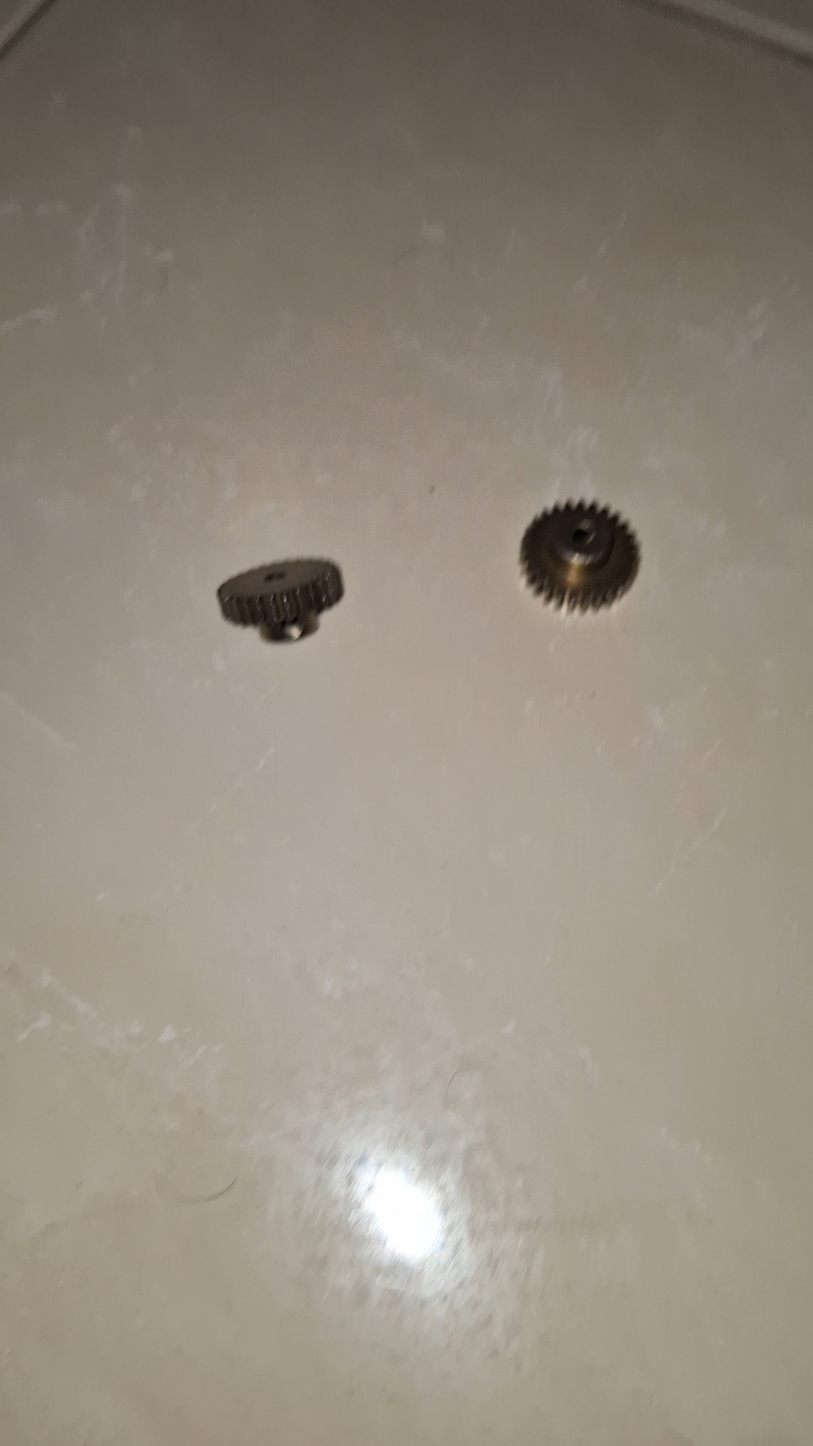spur gear: (520, 501, 639, 610), (218, 558, 344, 642)
